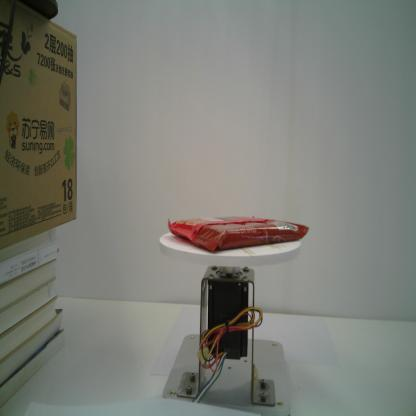Dessert: (167, 215, 310, 252)
